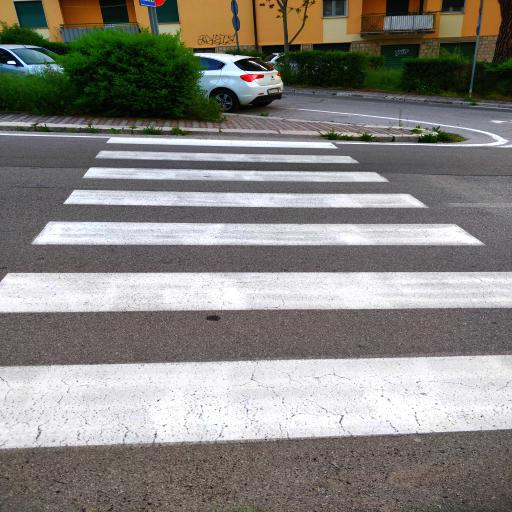crosswalk: (0, 266, 512, 468), (23, 185, 491, 252)
